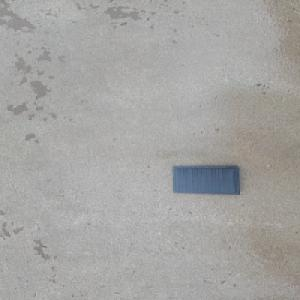PlasticPart: (171, 164, 242, 195)
